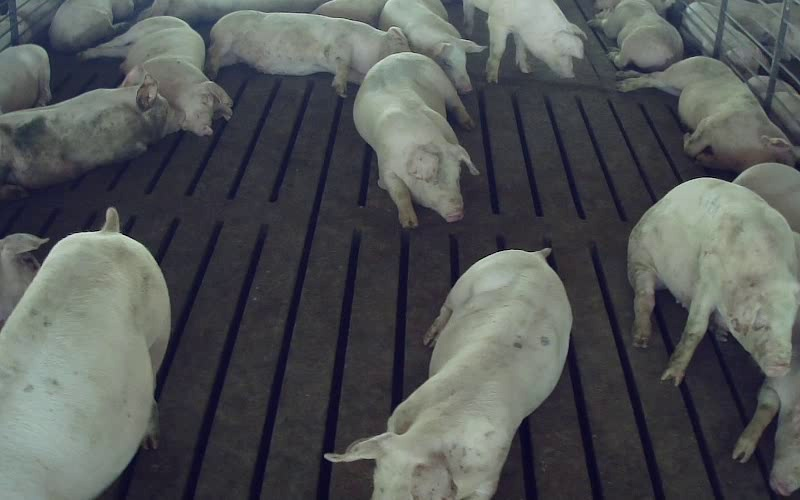pig: (326, 248, 570, 499), (0, 208, 169, 499), (628, 178, 799, 381), (353, 52, 478, 227), (0, 69, 182, 188), (617, 56, 794, 172), (82, 16, 231, 135), (206, 11, 408, 96), (464, 0, 586, 81), (379, 0, 484, 93), (588, 0, 683, 71)
